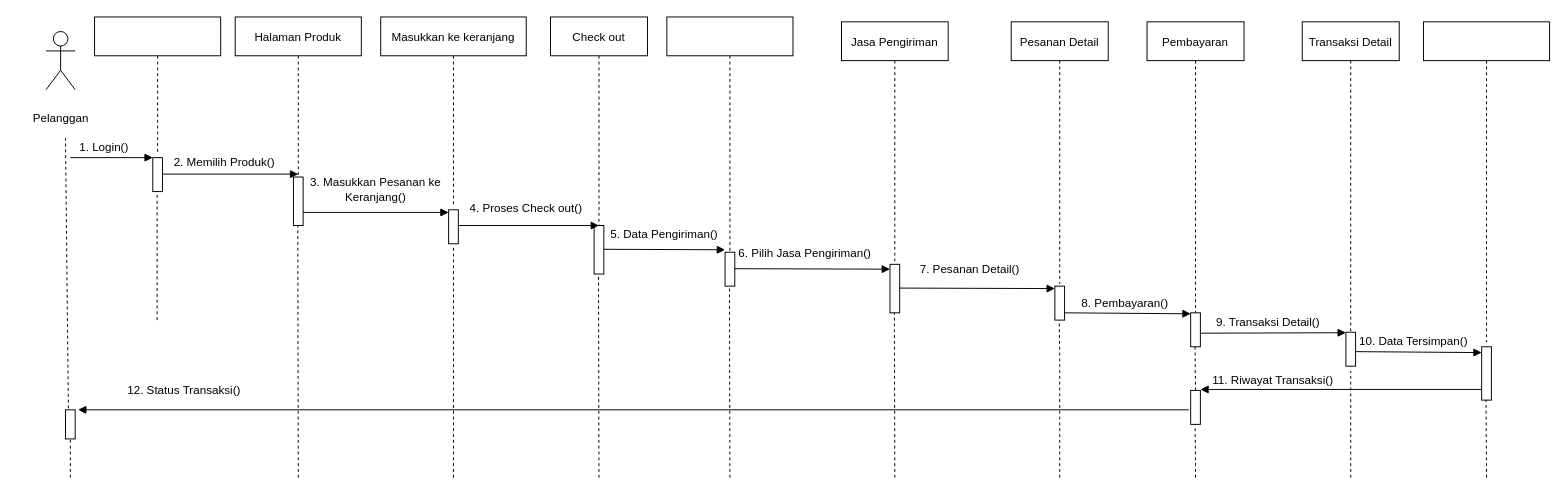
Image size: 1567x496. Some labels were removed from this diagram. Here are the shapes that lost their labels. From the top down, the box of each, then its label:
(45, 31, 75, 90): Actor
(94, 16, 221, 153): Login
(666, 16, 793, 255): Data Pengiriman
(1423, 21, 1550, 342): Database Transaksi
